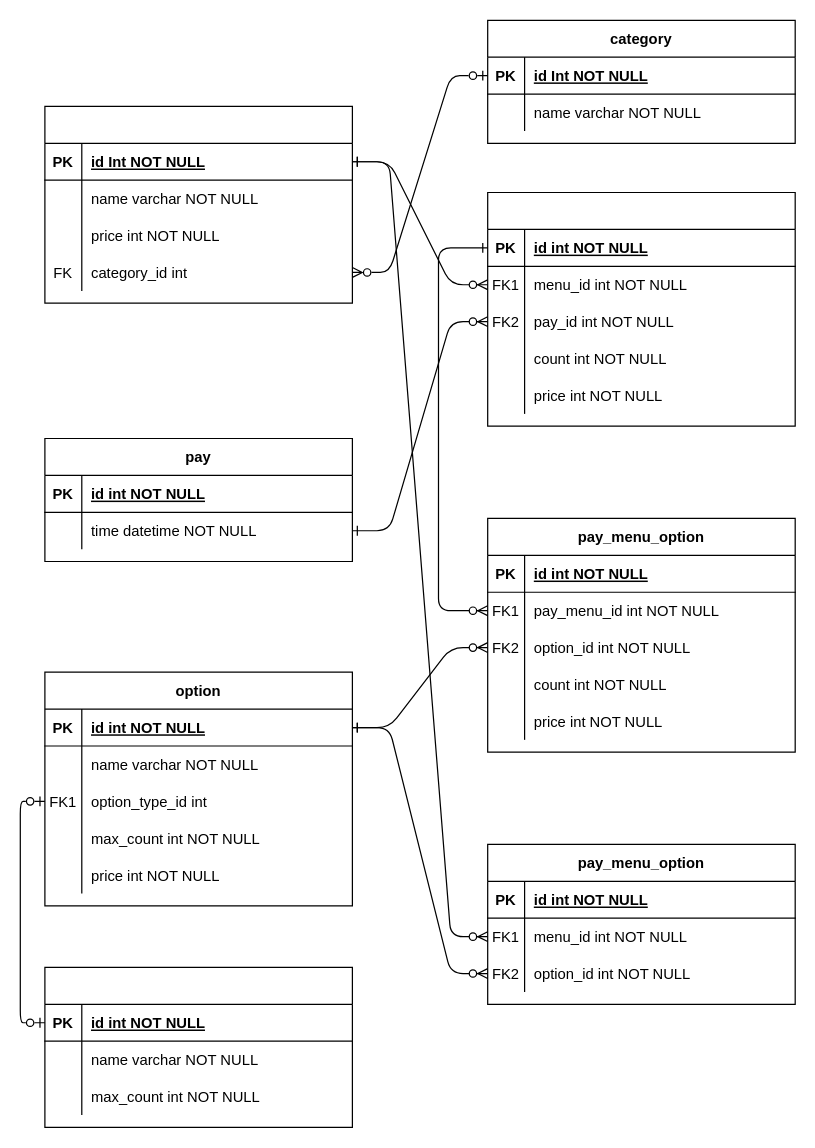
Image size: 815x1148. Some labels were removed from this diagram. The box of each missing label's shape, as (x1, y1, x2, y2) in pixels:
menu: (44, 105, 352, 303)
option_type: (44, 966, 352, 1127)
pay_menu: (486, 191, 795, 426)
